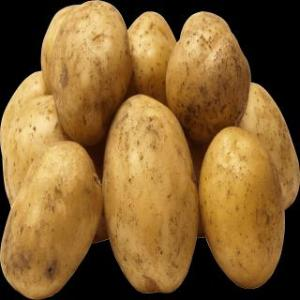potato: (102, 96, 195, 294), (0, 134, 110, 300), (44, 0, 138, 144), (201, 131, 283, 289), (166, 11, 250, 133), (228, 82, 298, 210), (2, 83, 66, 211), (118, 7, 178, 102)
